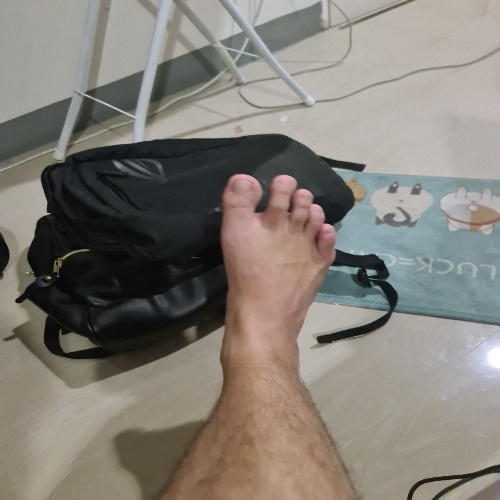3: (222, 174, 261, 226)
Top_Foot: (221, 173, 337, 389)
